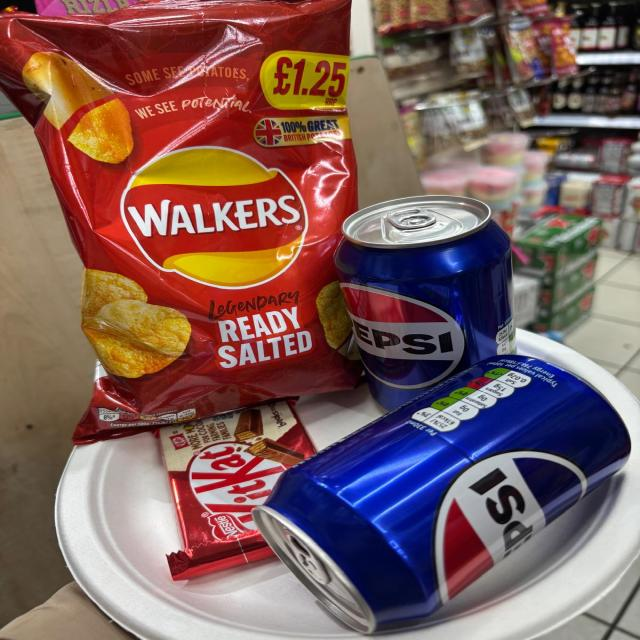crisp: (11, 4, 357, 412)
kitkat: (166, 394, 326, 592)
pepsi: (259, 356, 632, 614), (336, 192, 509, 410)
